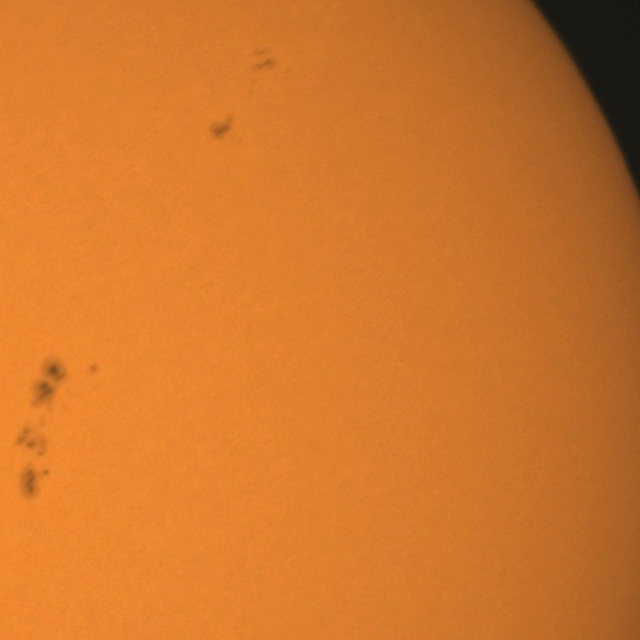sunspot: (33, 359, 68, 404), (16, 423, 49, 462), (22, 465, 49, 499), (252, 47, 277, 72), (207, 118, 233, 142), (87, 362, 101, 377)
